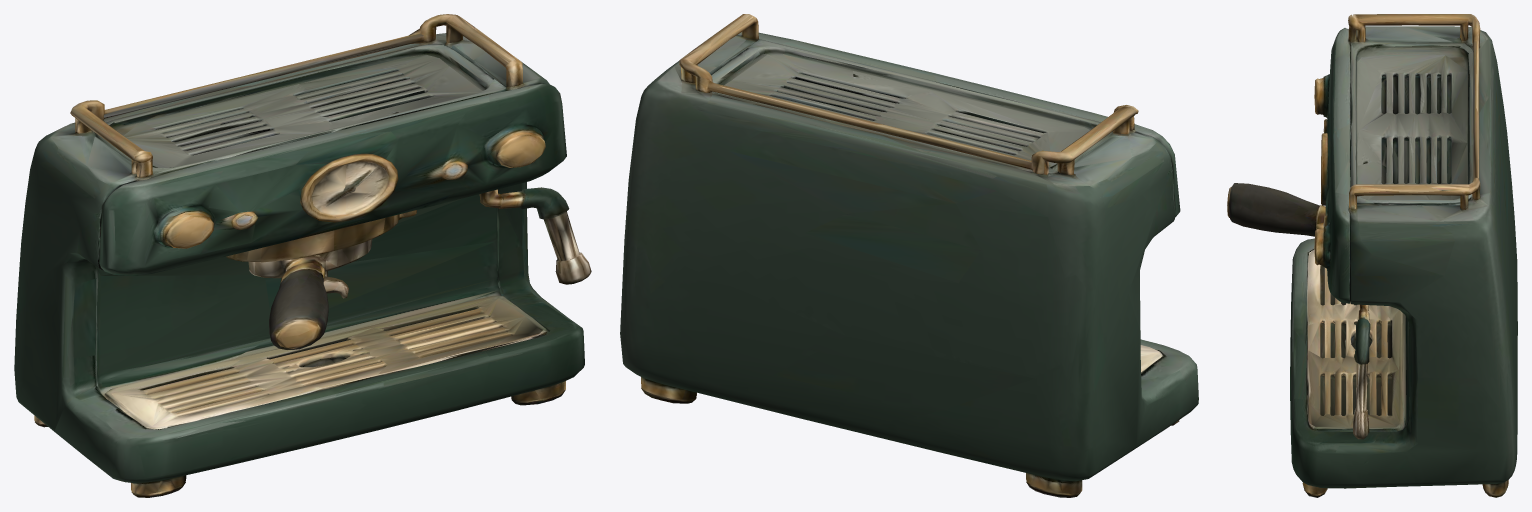
File: cafe-coffee-machine.glb
The picture shows the model from 3 angles, left to right: view 1: azimuth 30°, elevation 25°; view 2: azimuth 150°, elevation 25°; view 3: azimuth 270°, elevation 25°; orthographic projection. The views are drawn at different scales.
Parts seen in each view (by area): view 1: tripo_node_a42d06a8-cdff-4ba1-a90c-638c4a17bfe8; view 2: tripo_node_a42d06a8-cdff-4ba1-a90c-638c4a17bfe8; view 3: tripo_node_a42d06a8-cdff-4ba1-a90c-638c4a17bfe8.
Part boxes in pixels (x1,y1,x2,y2): tripo_node_a42d06a8-cdff-4ba1-a90c-638c4a17bfe8: (14, 14, 591, 497); tripo_node_a42d06a8-cdff-4ba1-a90c-638c4a17bfe8: (620, 14, 1198, 497); tripo_node_a42d06a8-cdff-4ba1-a90c-638c4a17bfe8: (1227, 14, 1517, 497).
Size of the model in its own units: 1.3 by 0.8 by 0.7.
Materials: 1 (1 with a texture image).
